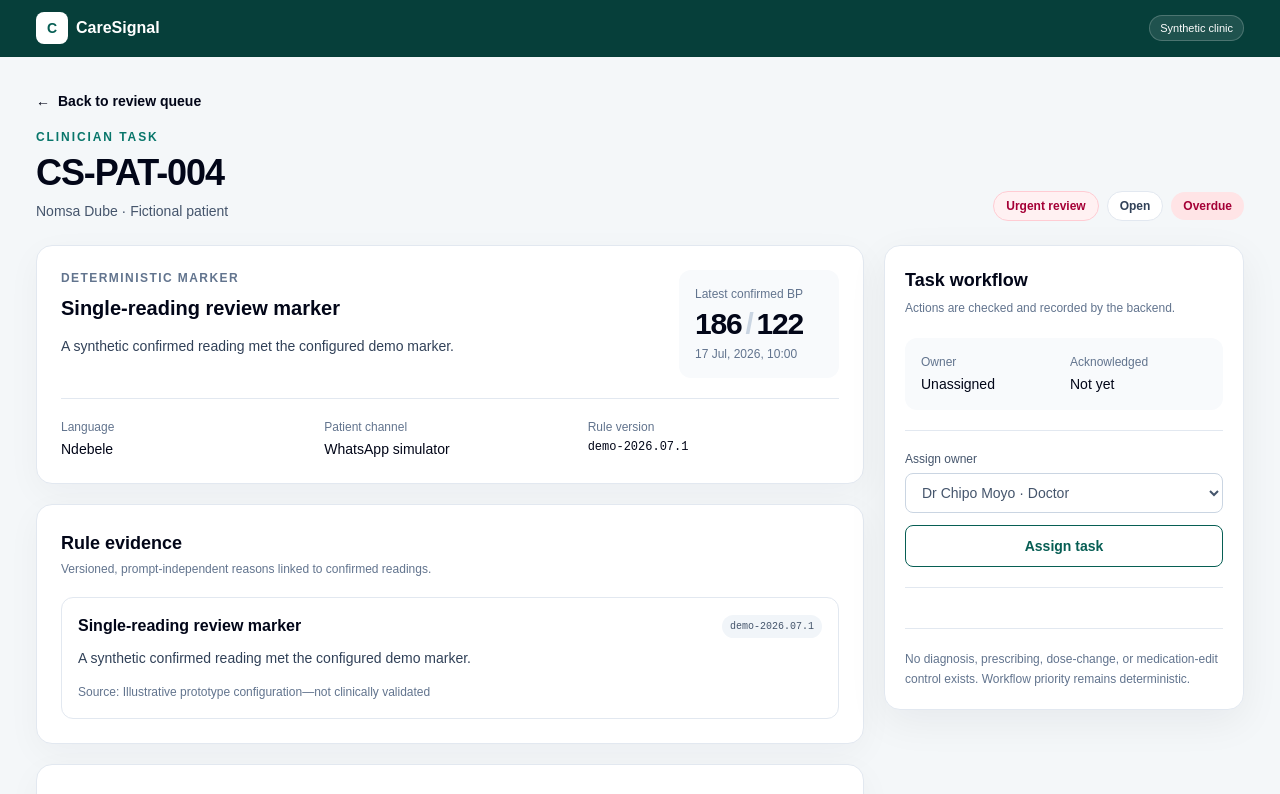
ClinicianTaskDetailPage › surfaces a backend action error without replacing the task evidence
This screenshot has width=1280, height=794.
Step 1. Click the button "Assign task" → coordinates (1064, 546), box [905,525,1223,567]
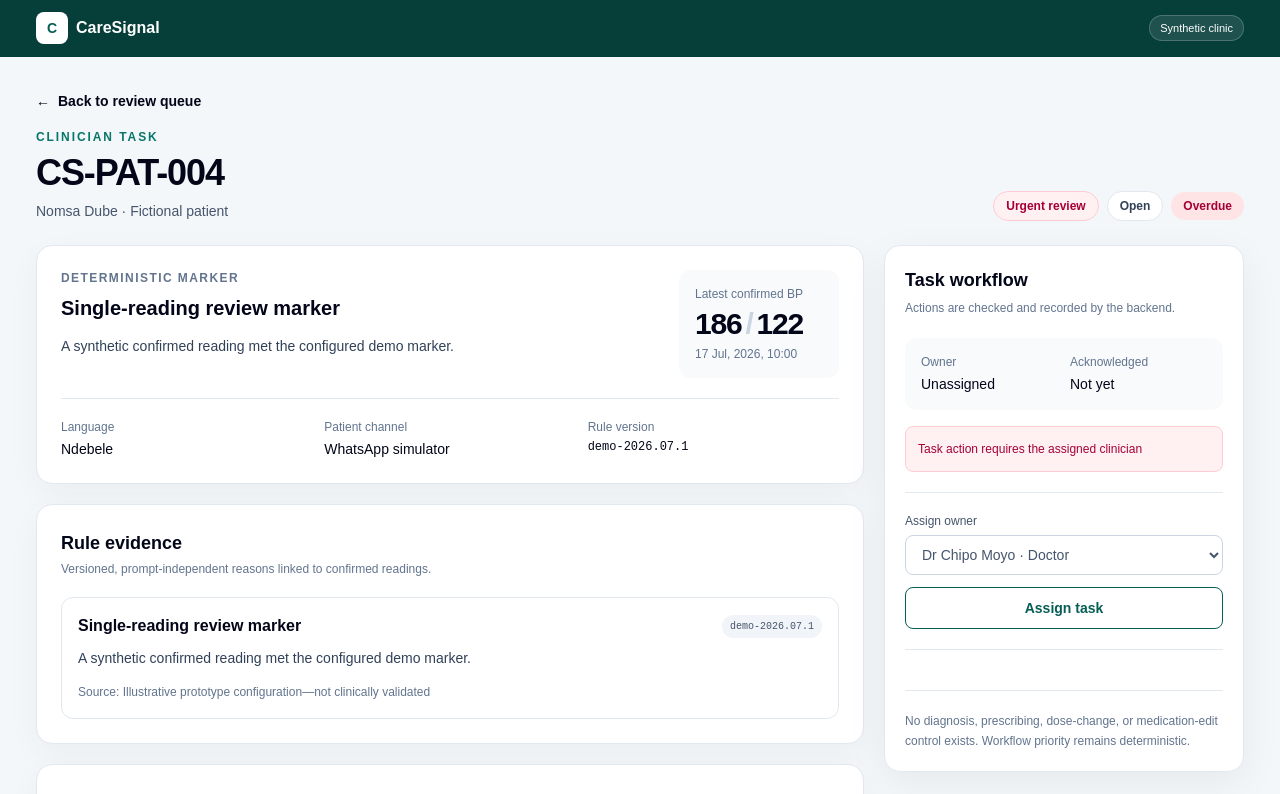
Check: the text "Illustrative prototype configuration" is shown, box [123,685,430,699]
Check: the text "Task action requires the assigned clinician" is shown, box [905,426,1223,472]
